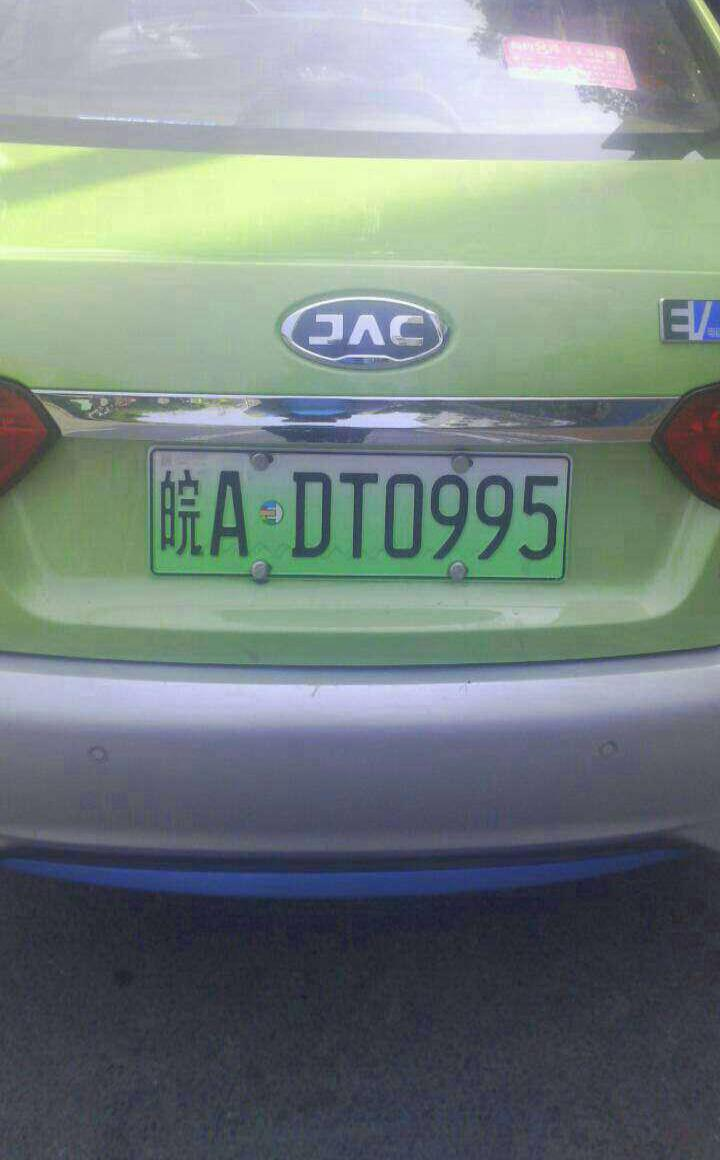car_id: (148, 447, 562, 582)
